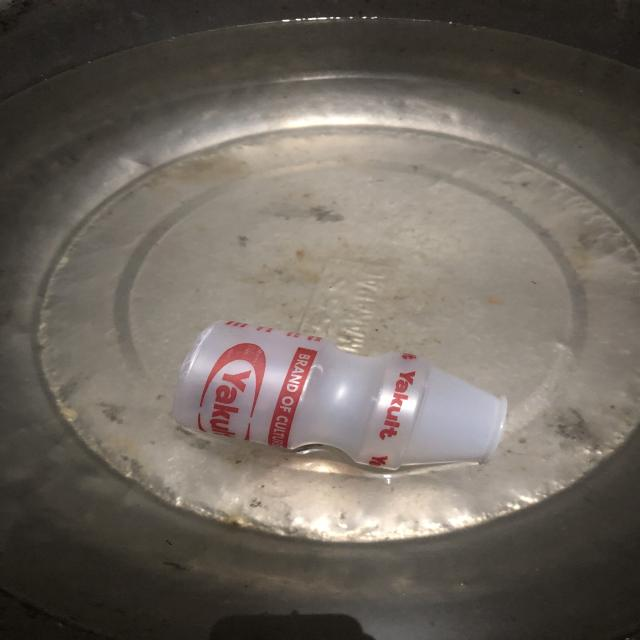Plastic Bottle: (173, 321, 507, 471)
